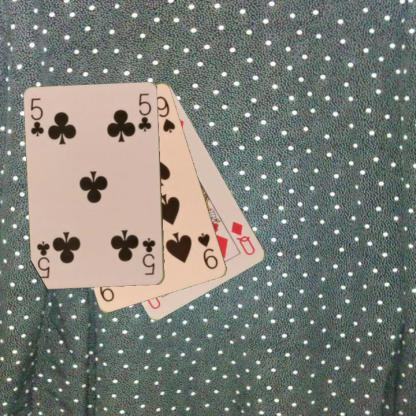5c: (28, 96, 46, 138), (140, 235, 156, 276)
9s: (195, 230, 220, 271)
Qd: (229, 219, 256, 257)
